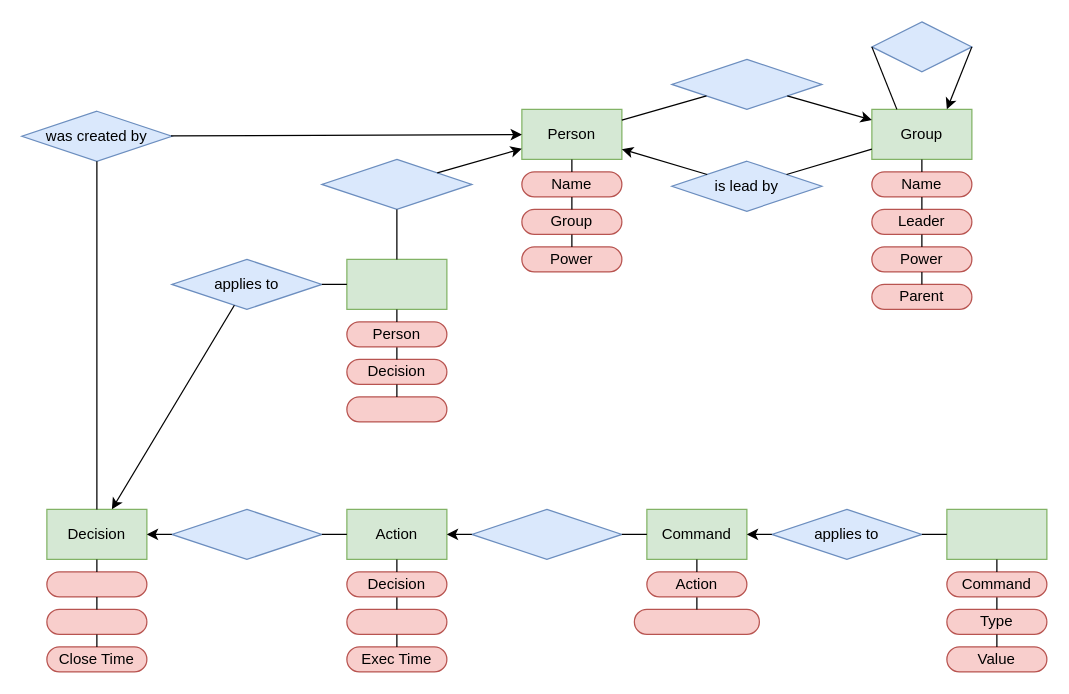
The diagram is 1069 pixels wide and 694 high, and some of its shapes have lost their labels. The shapes that lost their labels are listed below. From the top down, each one's box as (x1, y1, x2, y2) in pixels, then its label:
(871, 21, 972, 72): has parent
(671, 58, 822, 109): is a member of
(321, 158, 472, 209): voted by
(346, 258, 447, 309): Vote
(346, 396, 447, 422): Agreement
(171, 508, 322, 559): approved by
(471, 508, 622, 559): executed by
(946, 508, 1047, 559): Argument
(46, 571, 147, 597): Title
(46, 608, 147, 634): Creator
(346, 608, 447, 634): Description
(633, 608, 759, 634): SQL command
